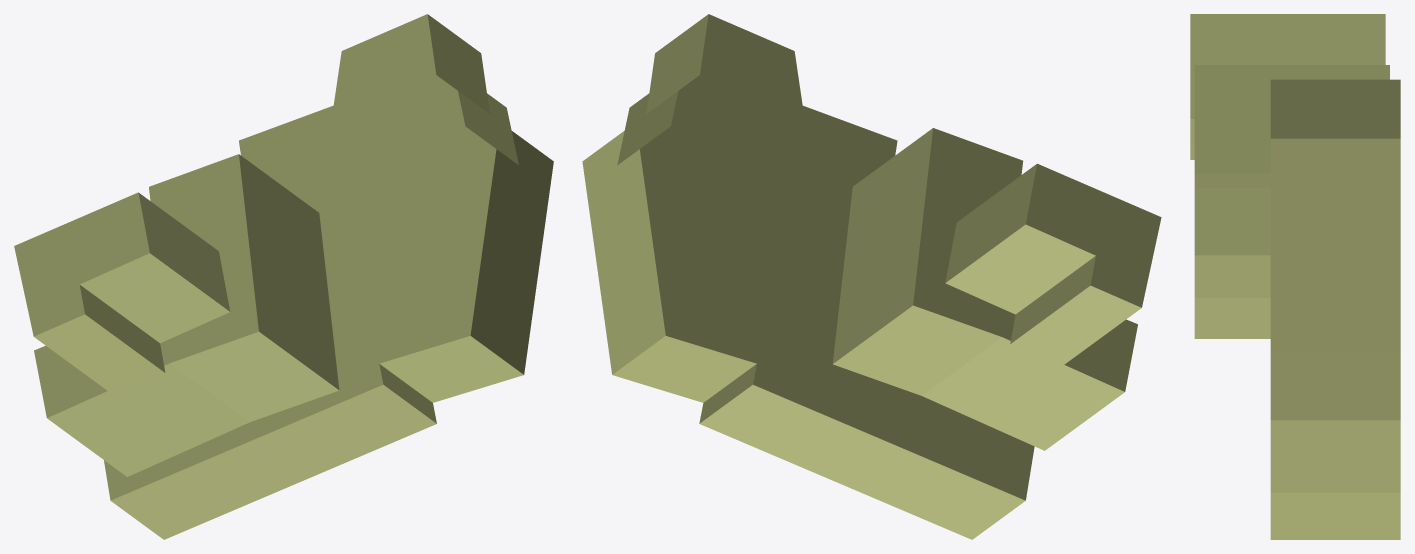
3 views of the same model, side by side, from view 1: azimuth 30°, elevation 25°; view 2: azimuth 150°, elevation 25°; view 3: azimuth 270°, elevation 25° (orthographic). The views are drawn at different scales.
Visible parts, largest first — view 1: 0_1_0_1_3_3_3_1_3; view 2: 0_1_0_1_3_3_3_1_3; view 3: 0_1_0_1_3_3_3_1_3.
Boxes of the visible parts, bbox=[...] form: 0_1_0_1_3_3_3_1_3: bbox=[14, 14, 553, 539]; 0_1_0_1_3_3_3_1_3: bbox=[582, 14, 1161, 539]; 0_1_0_1_3_3_3_1_3: bbox=[1190, 14, 1400, 539].
Bounding box in the file's own units: 31.81 × 25.27 × 9.7.
